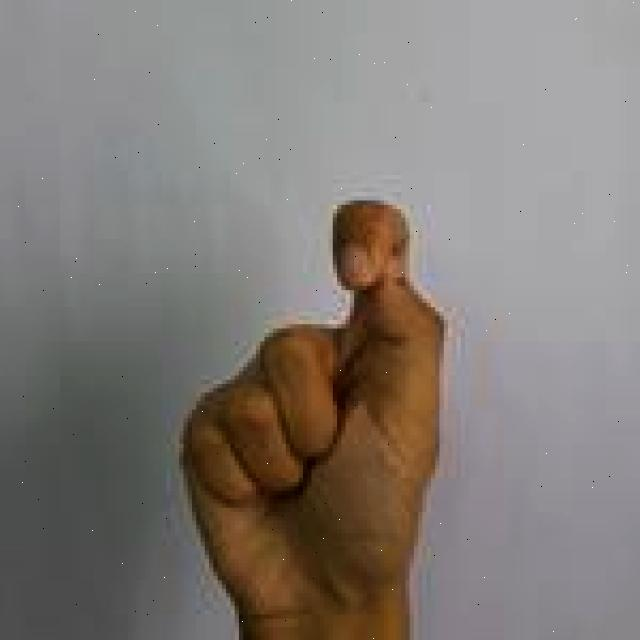T: (178, 197, 453, 640)
